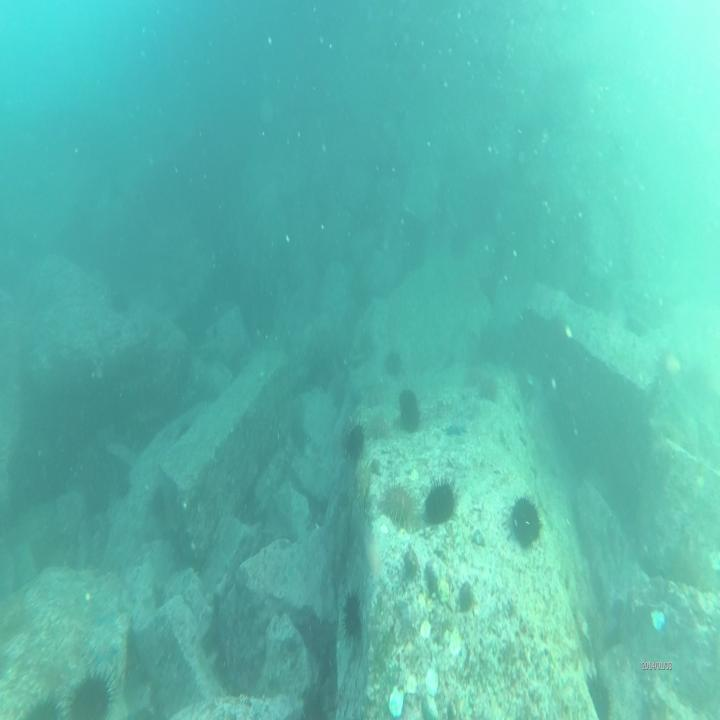echinus: (65, 663, 114, 720), (382, 473, 419, 529), (418, 476, 458, 526), (508, 494, 543, 549), (339, 582, 367, 642), (348, 464, 373, 520), (395, 385, 424, 432), (345, 413, 366, 461), (364, 411, 390, 444), (382, 347, 407, 379), (108, 283, 132, 314), (479, 369, 499, 405)
starfish: (87, 635, 123, 672), (446, 413, 469, 441)
